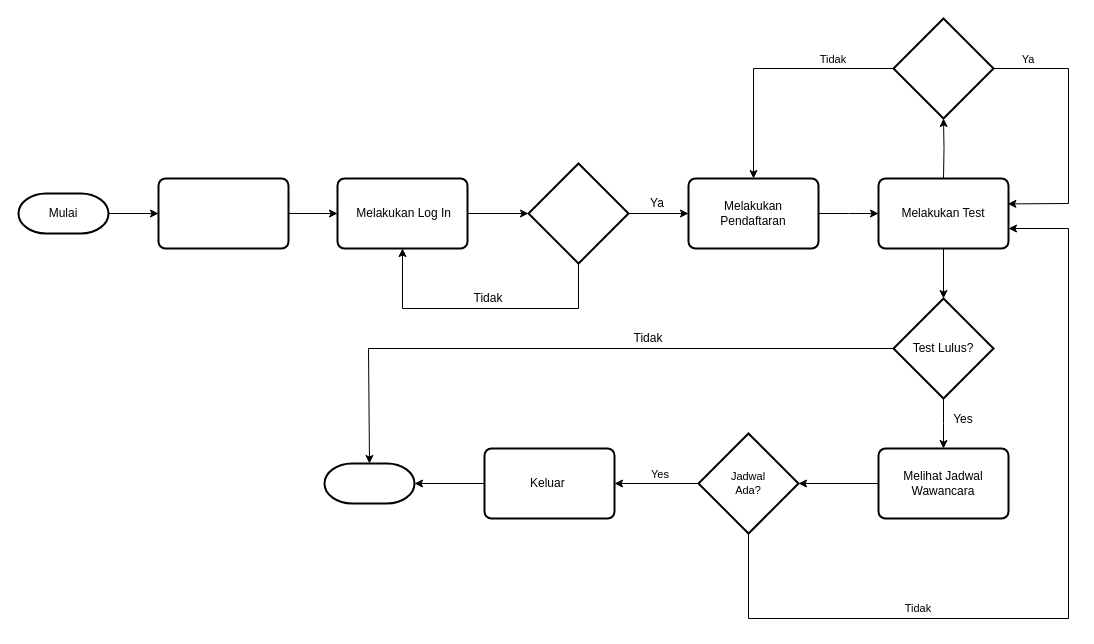
Image size: 1094x644. Some labels were removed from this diagram. The centre of each missing label's shape, as x and y in pixels:
Berhasil Log In?: (578,213)
Melakukan Sign In: (223,213)
Selesai: (369,483)
Tidak Bisa Ikut Test?: (943,68)
